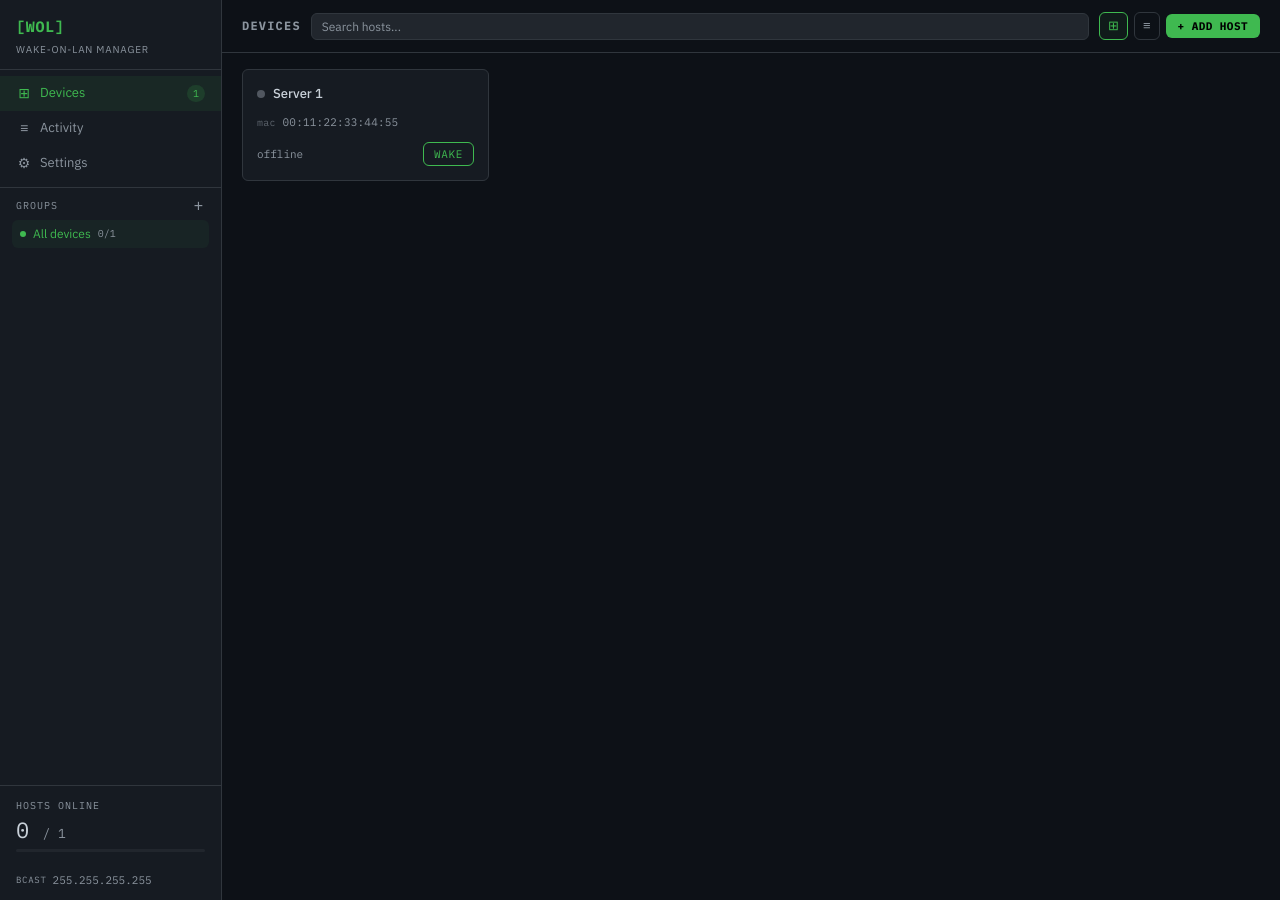
Scenario: App › updateDevice › closes drawer when X is clicked
Step 1. Click the text "Server 1" → (298, 94), box [273, 85, 323, 102]
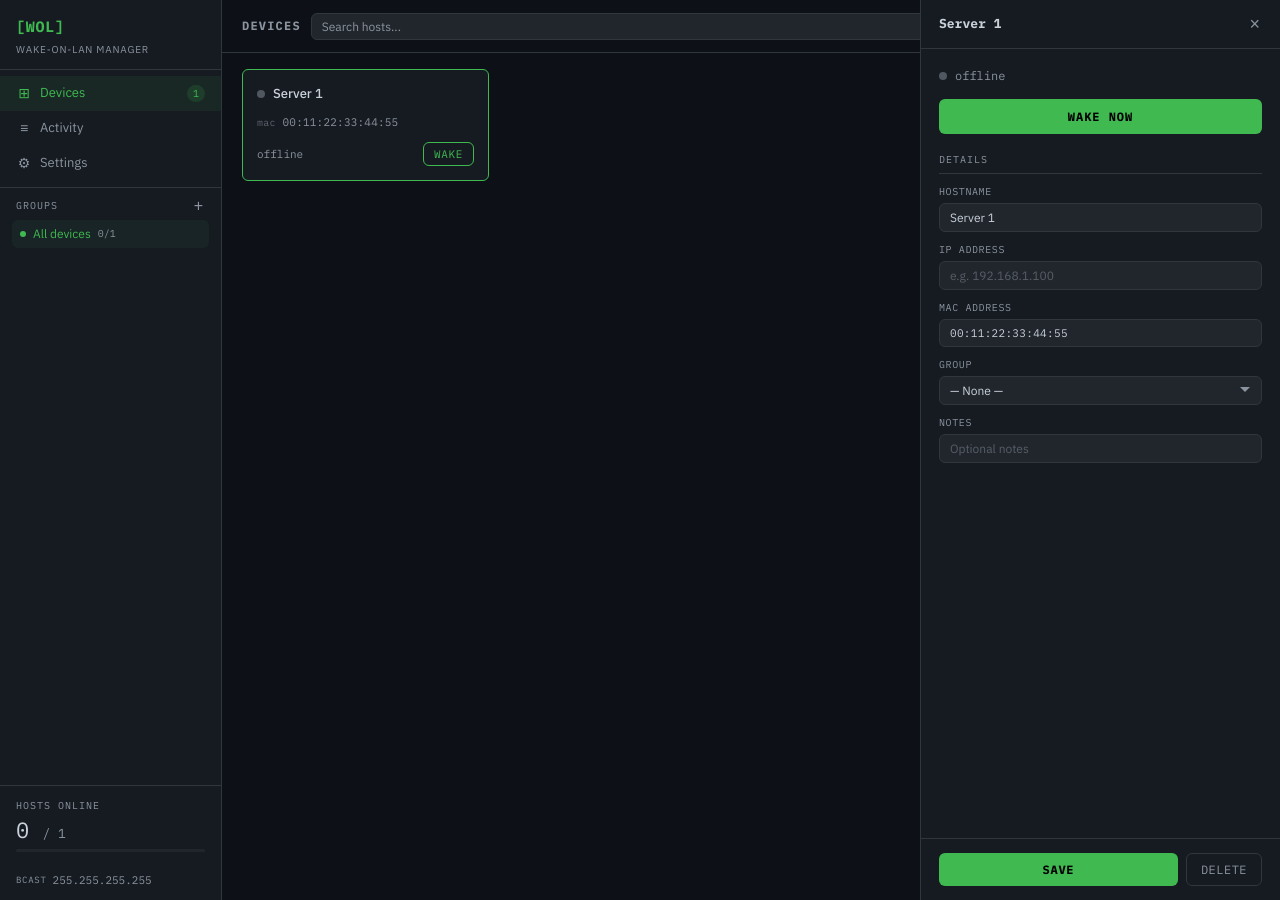
Now the button "SAVE" is shown, box [939, 853, 1178, 886]
Step 2. Click the button "×" → (1255, 24), box [1248, 15, 1262, 33]
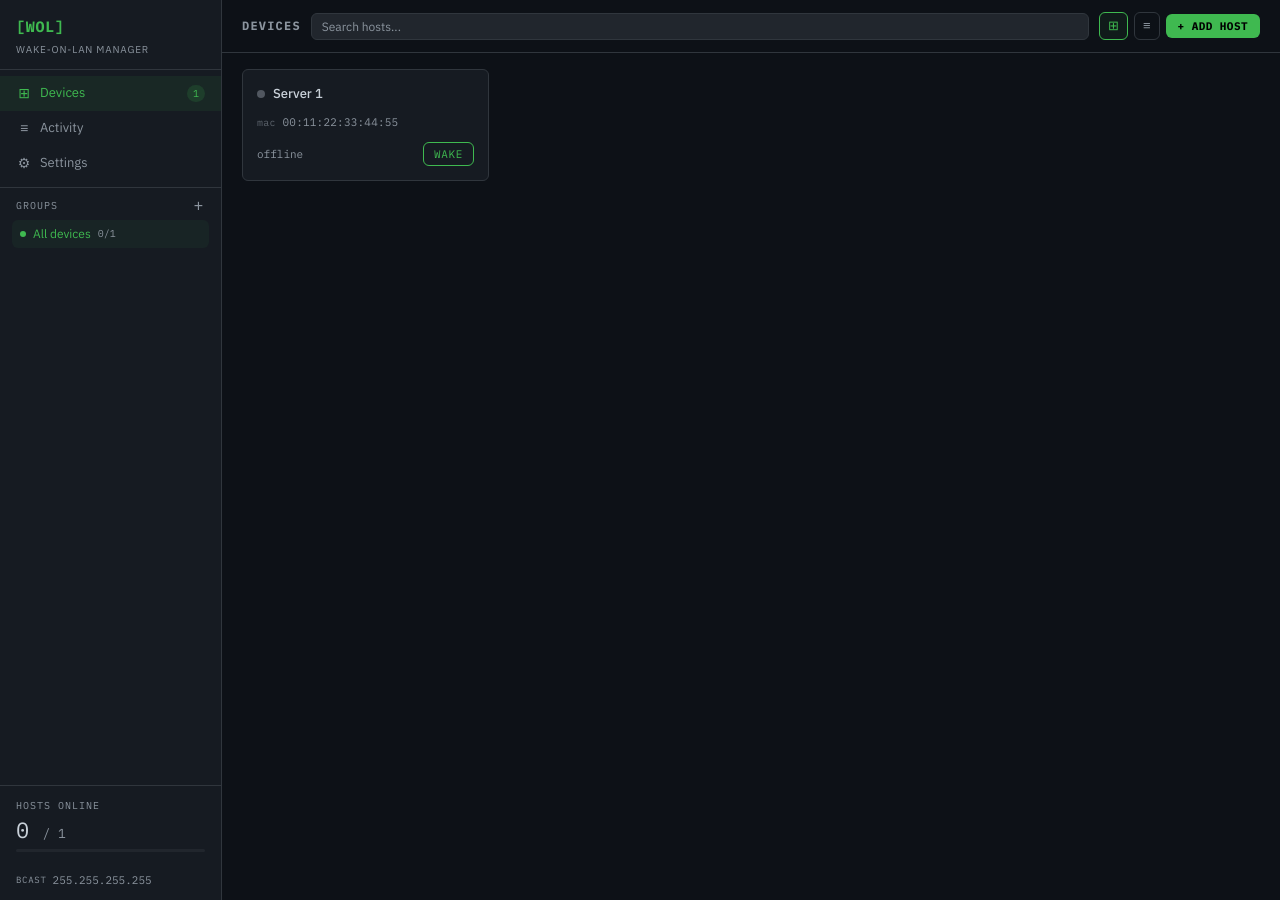
Now the button "SAVE" is gone
